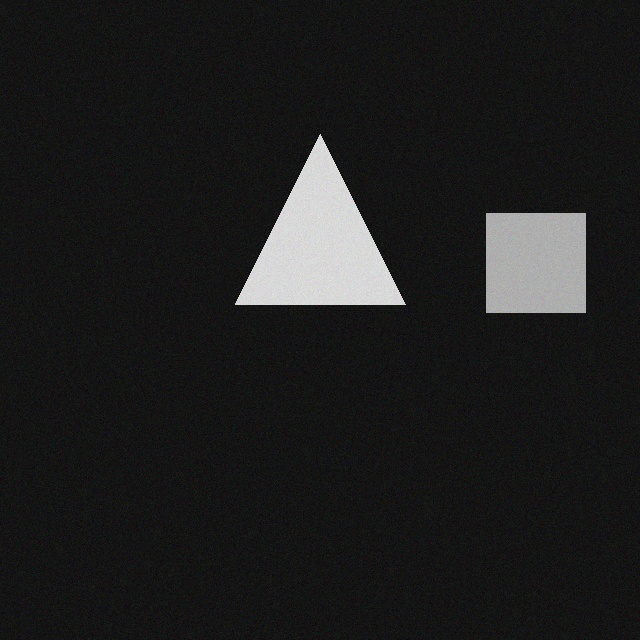square: (480, 198, 579, 297)
triangle: (229, 119, 399, 289)
